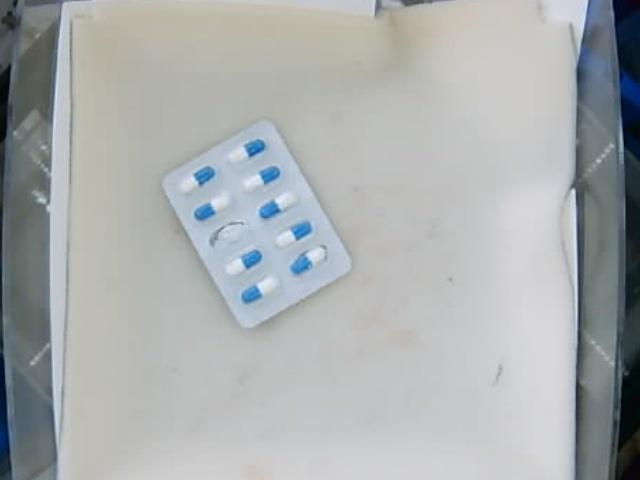Medicine: (159, 116, 352, 329)
